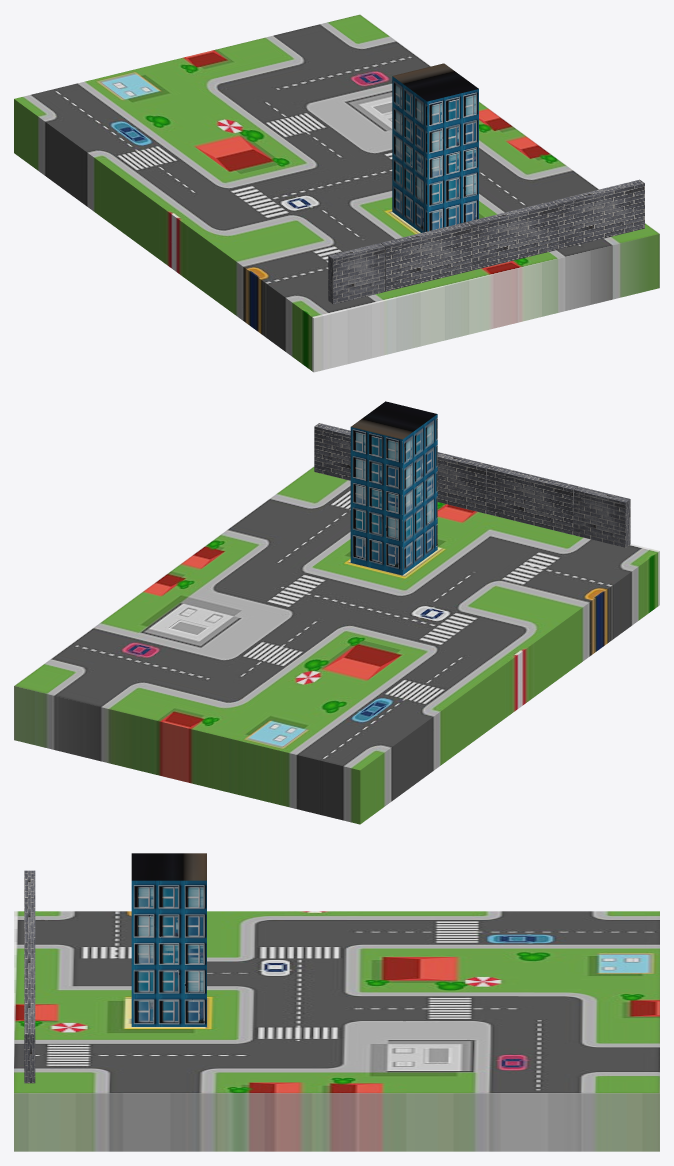
File: city.fbx
The picture shows the model from 3 angles, top to bottom: view 1: azimuth 30°, elevation 25°; view 2: azimuth 150°, elevation 25°; view 3: azimuth 270°, elevation 25°; orthographic projection. The views are drawn at different scales.
Visible parts, largest first — view 1: Plano, Cubo.007, Cubo.009, Cubo.002, Cubo.011, Cubo.010; view 2: Plano, Cubo.007, Cubo.009, Cubo.010, Cubo.002, Cubo.011; view 3: Plano, Cubo.007, Cubo.011, Cubo.002, Cubo.009.
Boxes of the visible parts, x1,y1,x2,y2 form: Plano: (14,14,659,372); Cubo.007: (392,63,478,232); Cubo.009: (381,221,472,291); Cubo.002: (468,200,559,270); Cubo.011: (554,179,644,249); Cubo.010: (328,243,385,304); Plano: (14,466,659,824); Cubo.007: (350,401,437,575); Cubo.009: (486,465,577,534); Cubo.010: (573,486,630,547); Cubo.002: (437,452,491,513); Cubo.011: (314,423,350,480); Plano: (14,911,659,1151); Cubo.007: (131,853,206,1026); Cubo.011: (24,989,35,1083); Cubo.002: (24,944,35,989); Cubo.009: (24,898,35,943).
Size of the model in its own units: 8000 by 4197 by 12000.
6 materials, 6 textured.
